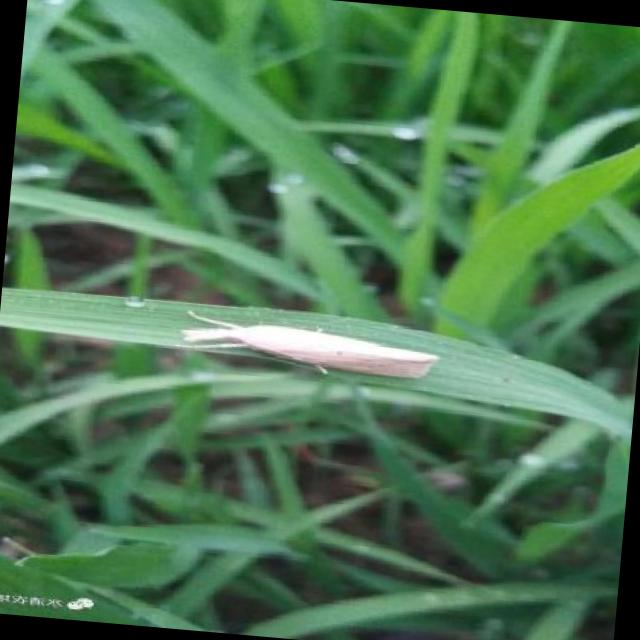stem-borer: (170, 306, 452, 394)
